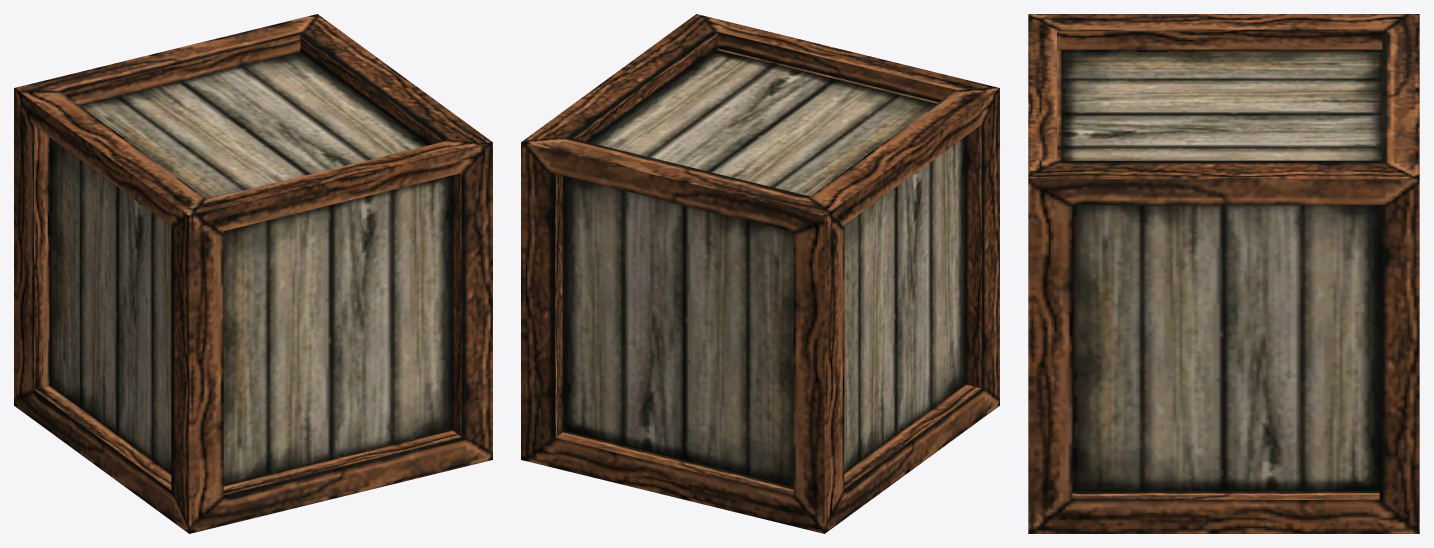
The model's file is INST_LT_CRATE.fbx.
3 renders of one model, left to right at view 1: azimuth 30°, elevation 25°; view 2: azimuth 150°, elevation 25°; view 3: azimuth 270°, elevation 25°, orthographic. The views are drawn at different scales.
Visible parts, largest first — view 1: INST_LT_CRATE; view 2: INST_LT_CRATE; view 3: INST_LT_CRATE.
Boxes of the visible parts, <box> form: INST_LT_CRATE: <box>14,14,492,533</box>; INST_LT_CRATE: <box>521,14,999,533</box>; INST_LT_CRATE: <box>1028,14,1419,533</box>.
Size of the model in its own units: 7095 by 7095 by 7095.
Materials: 1 (1 with a texture image).
